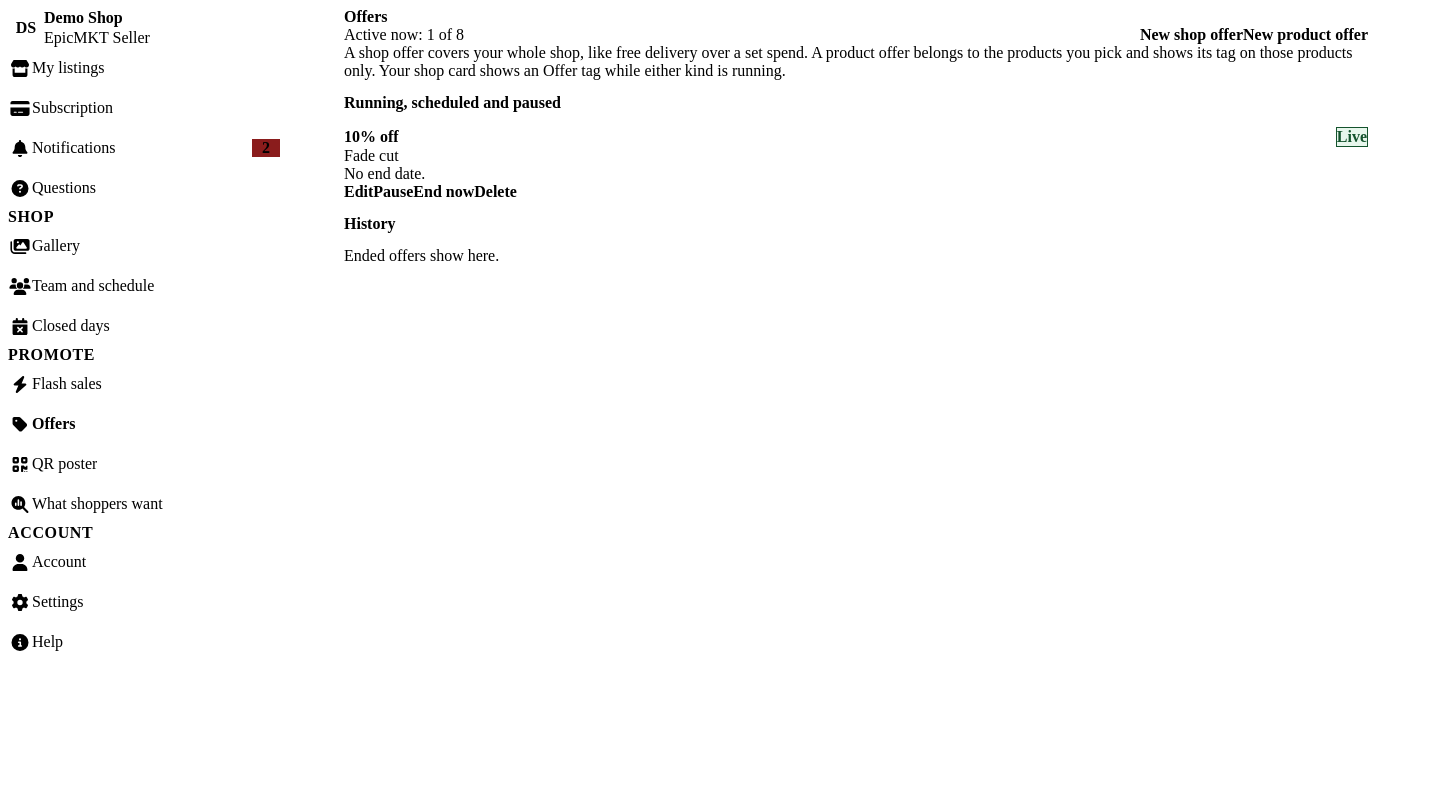
Test case: seller offers › refuses an offer with no product and pauses and ends a running one
expect the number of list items with test id "offer-row" is 1: met, box [344,126,1368,200]
Click the button "Pause": {"x": 393, "y": 192} [373,182,413,200]
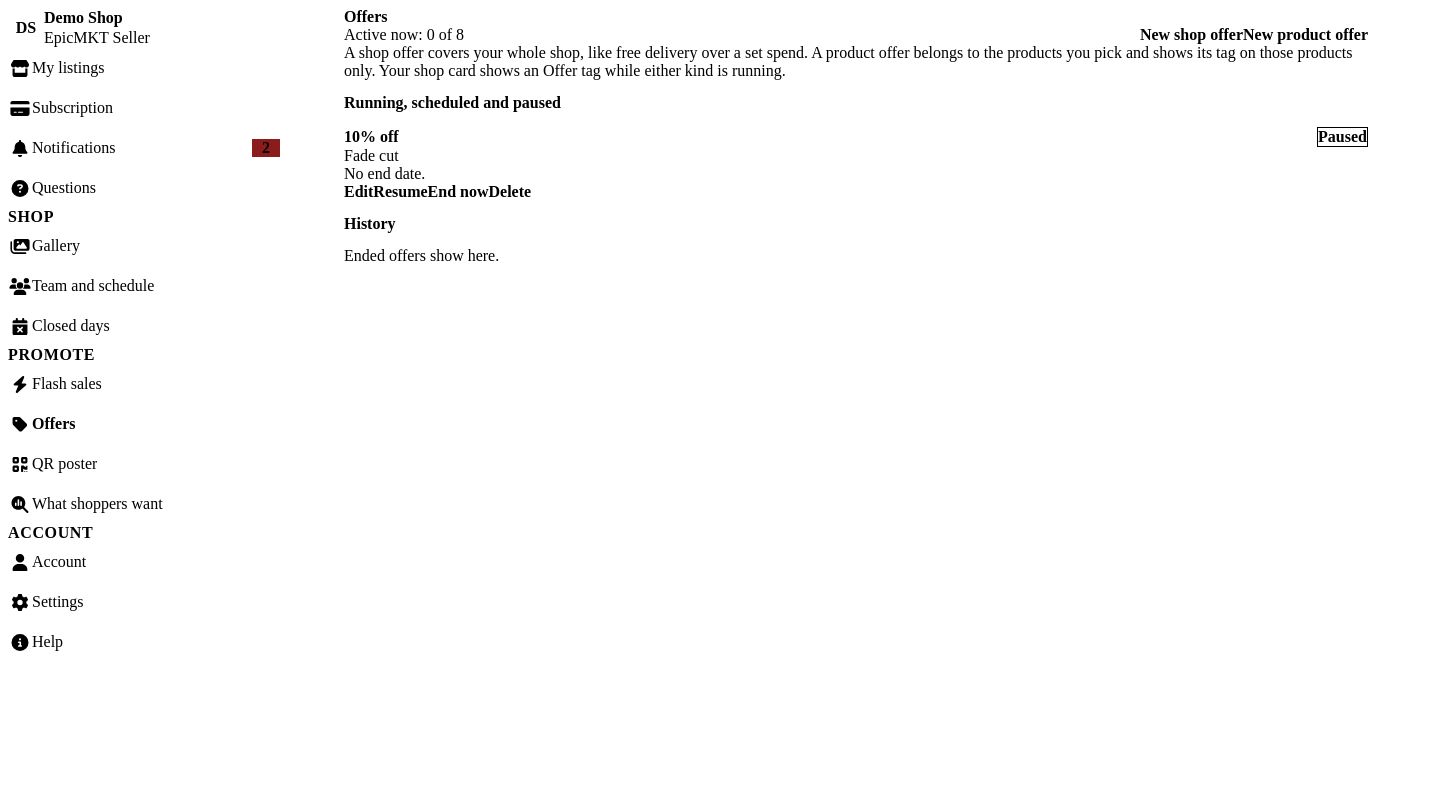
expect the list item with test id "offer-row" shows "Paused": met, box [1318,128,1367,144]
Click the button "Resume": {"x": 400, "y": 192} [373,182,428,200]
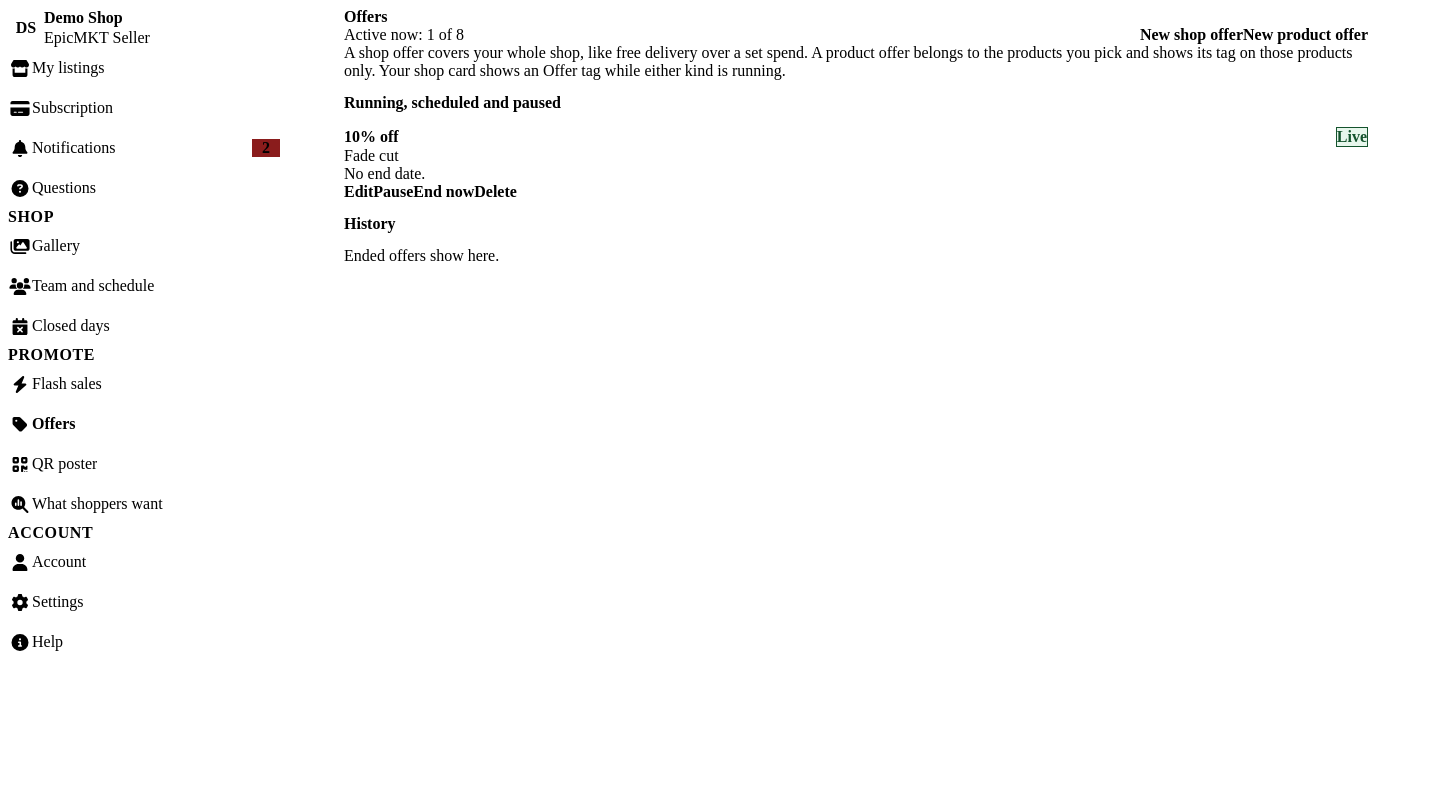
expect the list item with test id "offer-row" shows "Live": met, box [1337,128,1367,144]
Click the button "End now": {"x": 444, "y": 192} [413,182,474,200]
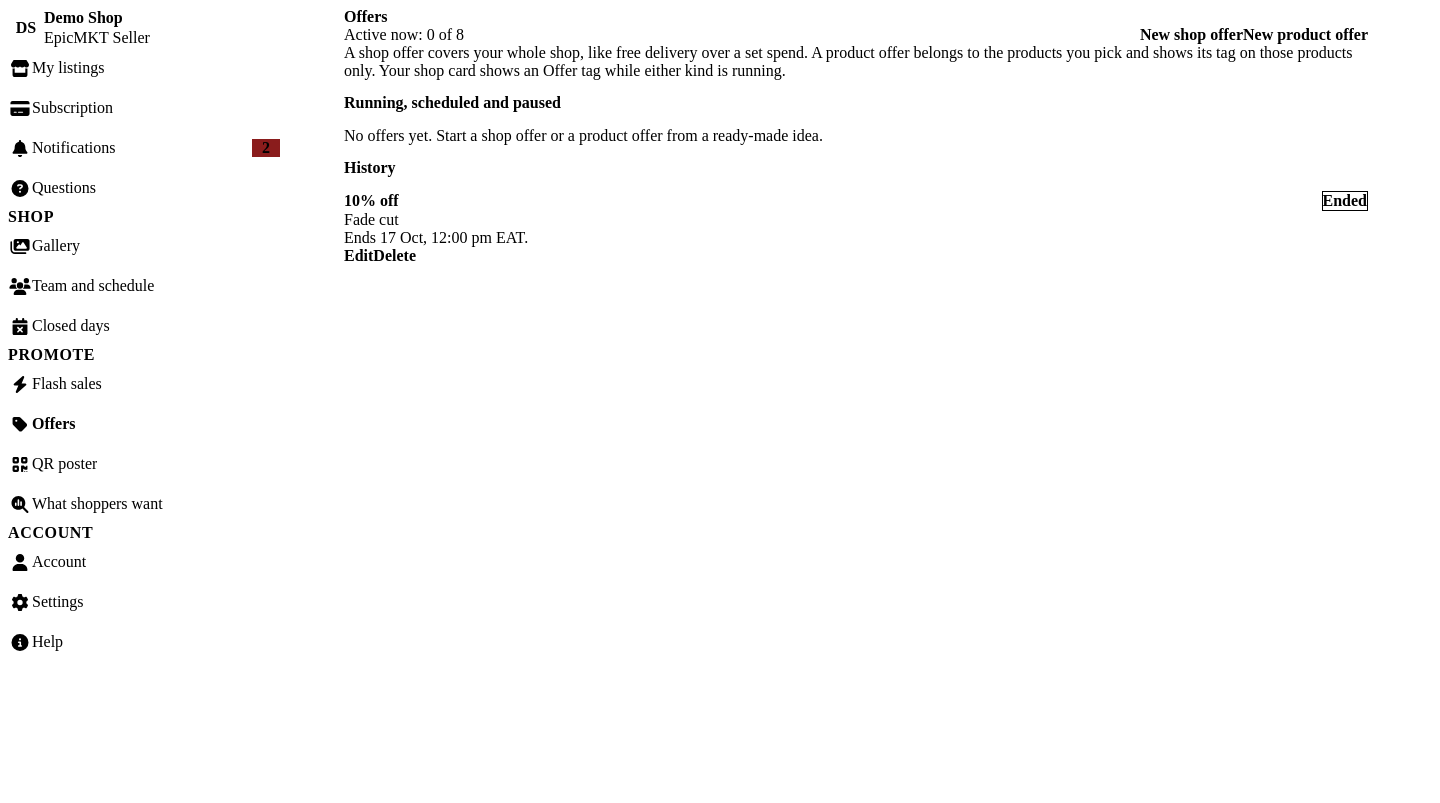
expect the button "End now" is gone: met
